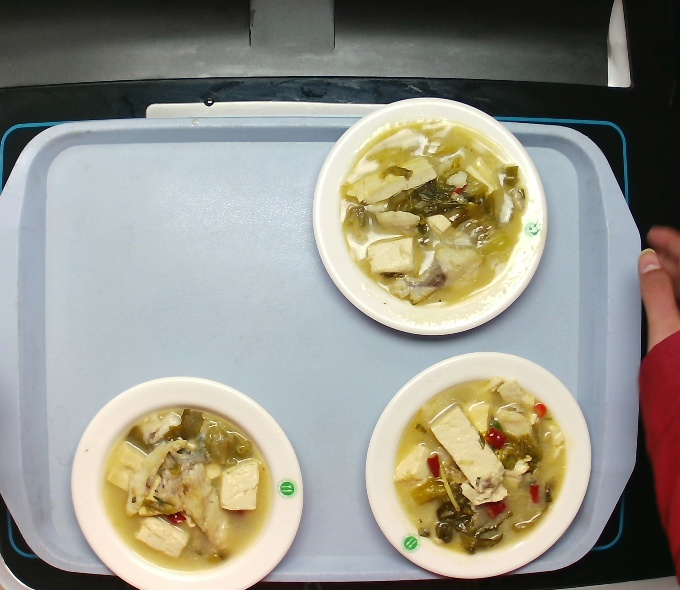wcq-SuanCaiDouFuYu: (326, 121, 532, 306), (386, 371, 574, 556), (88, 403, 286, 568)
